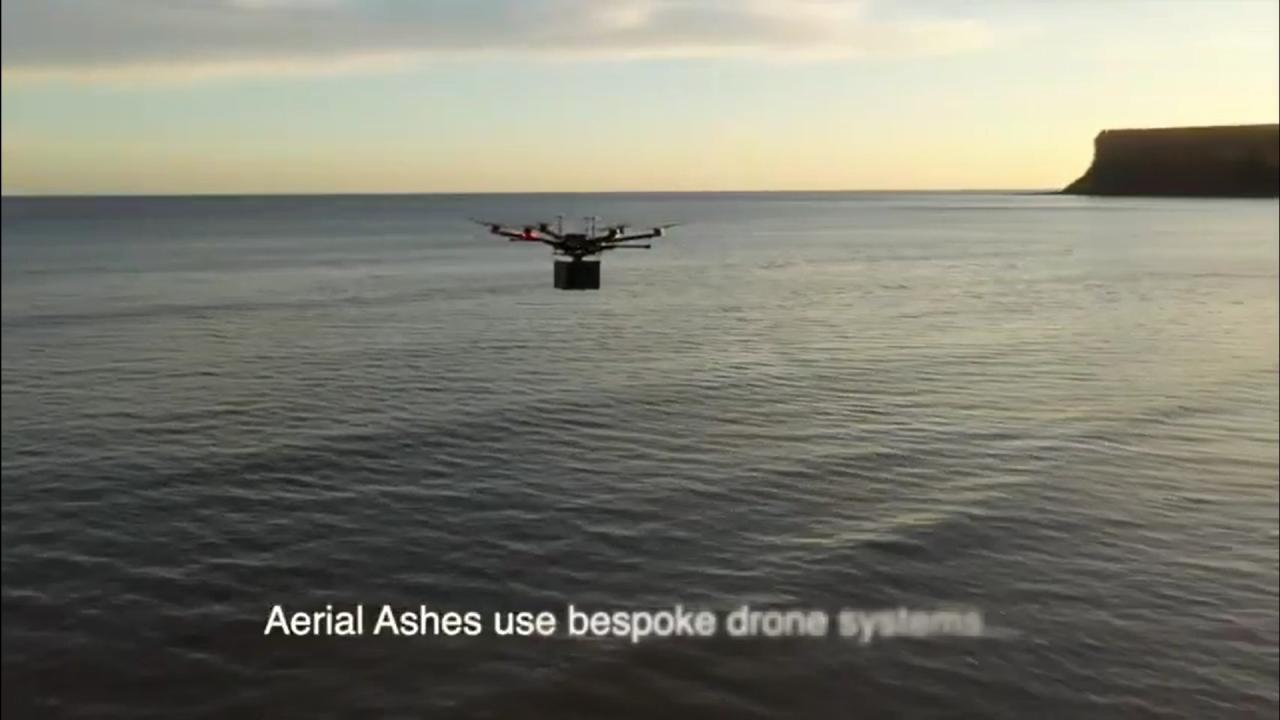Drone: (462, 204, 702, 268)
